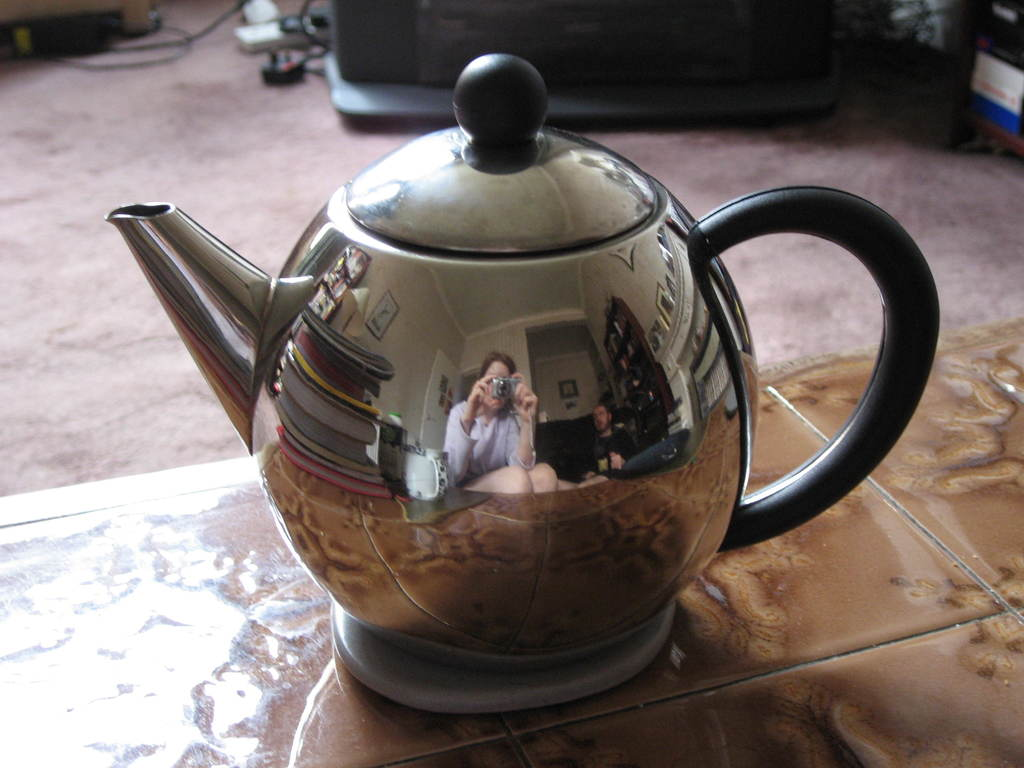person: (576, 393, 638, 480)
